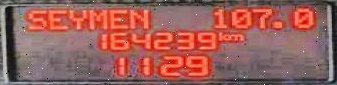-: (269, 18, 283, 29)
0: (290, 4, 313, 30), (230, 6, 250, 27)
1: (212, 8, 227, 29), (115, 54, 128, 75), (141, 52, 151, 77), (98, 32, 108, 52)
2: (159, 55, 179, 78), (152, 30, 170, 49)
3: (176, 30, 193, 49)
4: (129, 32, 151, 49)
6: (108, 30, 126, 49)
7: (250, 7, 269, 28)
9: (182, 55, 207, 77), (196, 31, 215, 50)
X: (106, 7, 125, 30), (128, 8, 148, 28), (47, 8, 65, 30), (27, 8, 45, 29), (88, 8, 106, 29), (68, 8, 85, 29), (226, 33, 245, 41), (215, 31, 226, 40)
